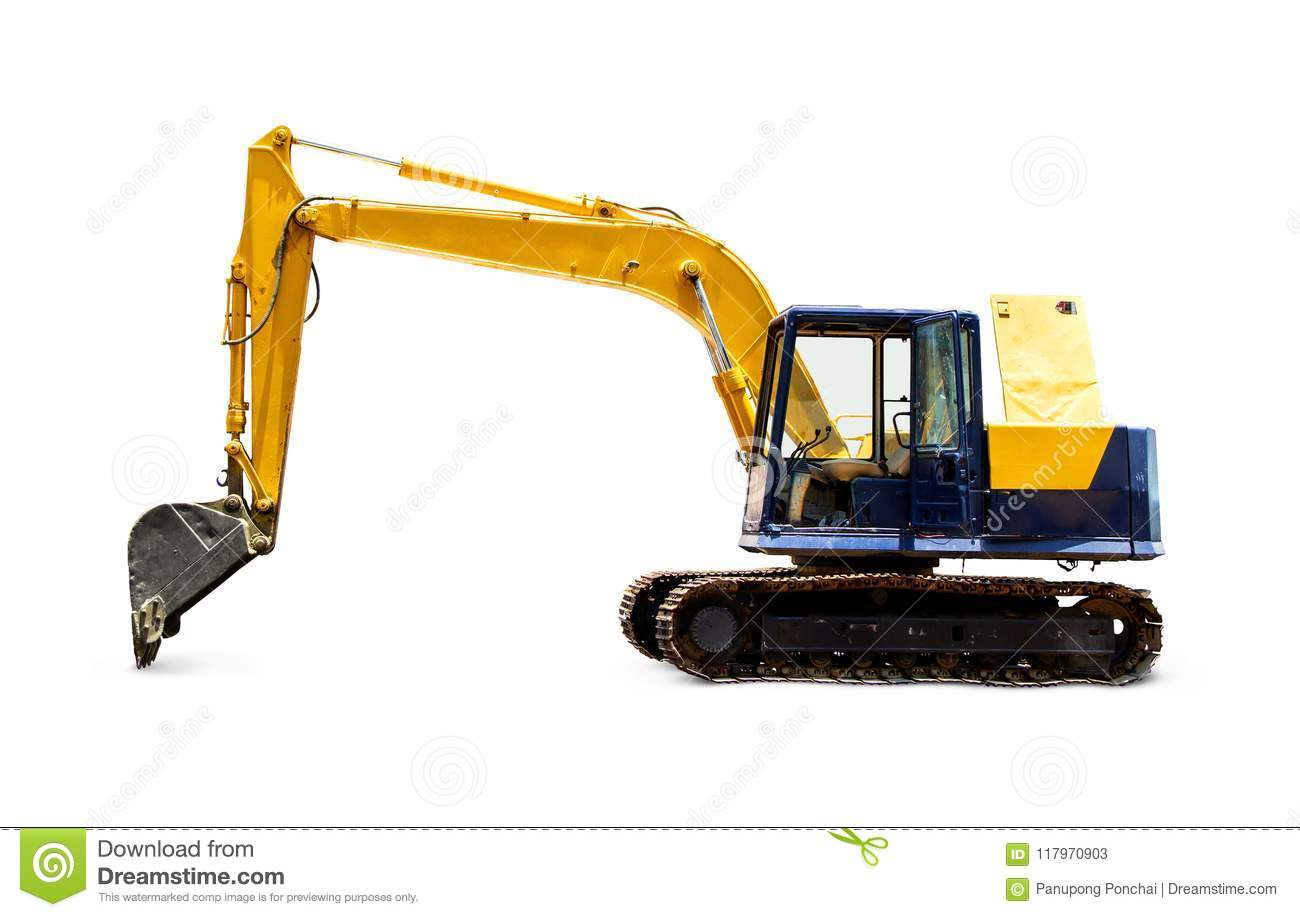backhoe: (106, 127, 1189, 689)
